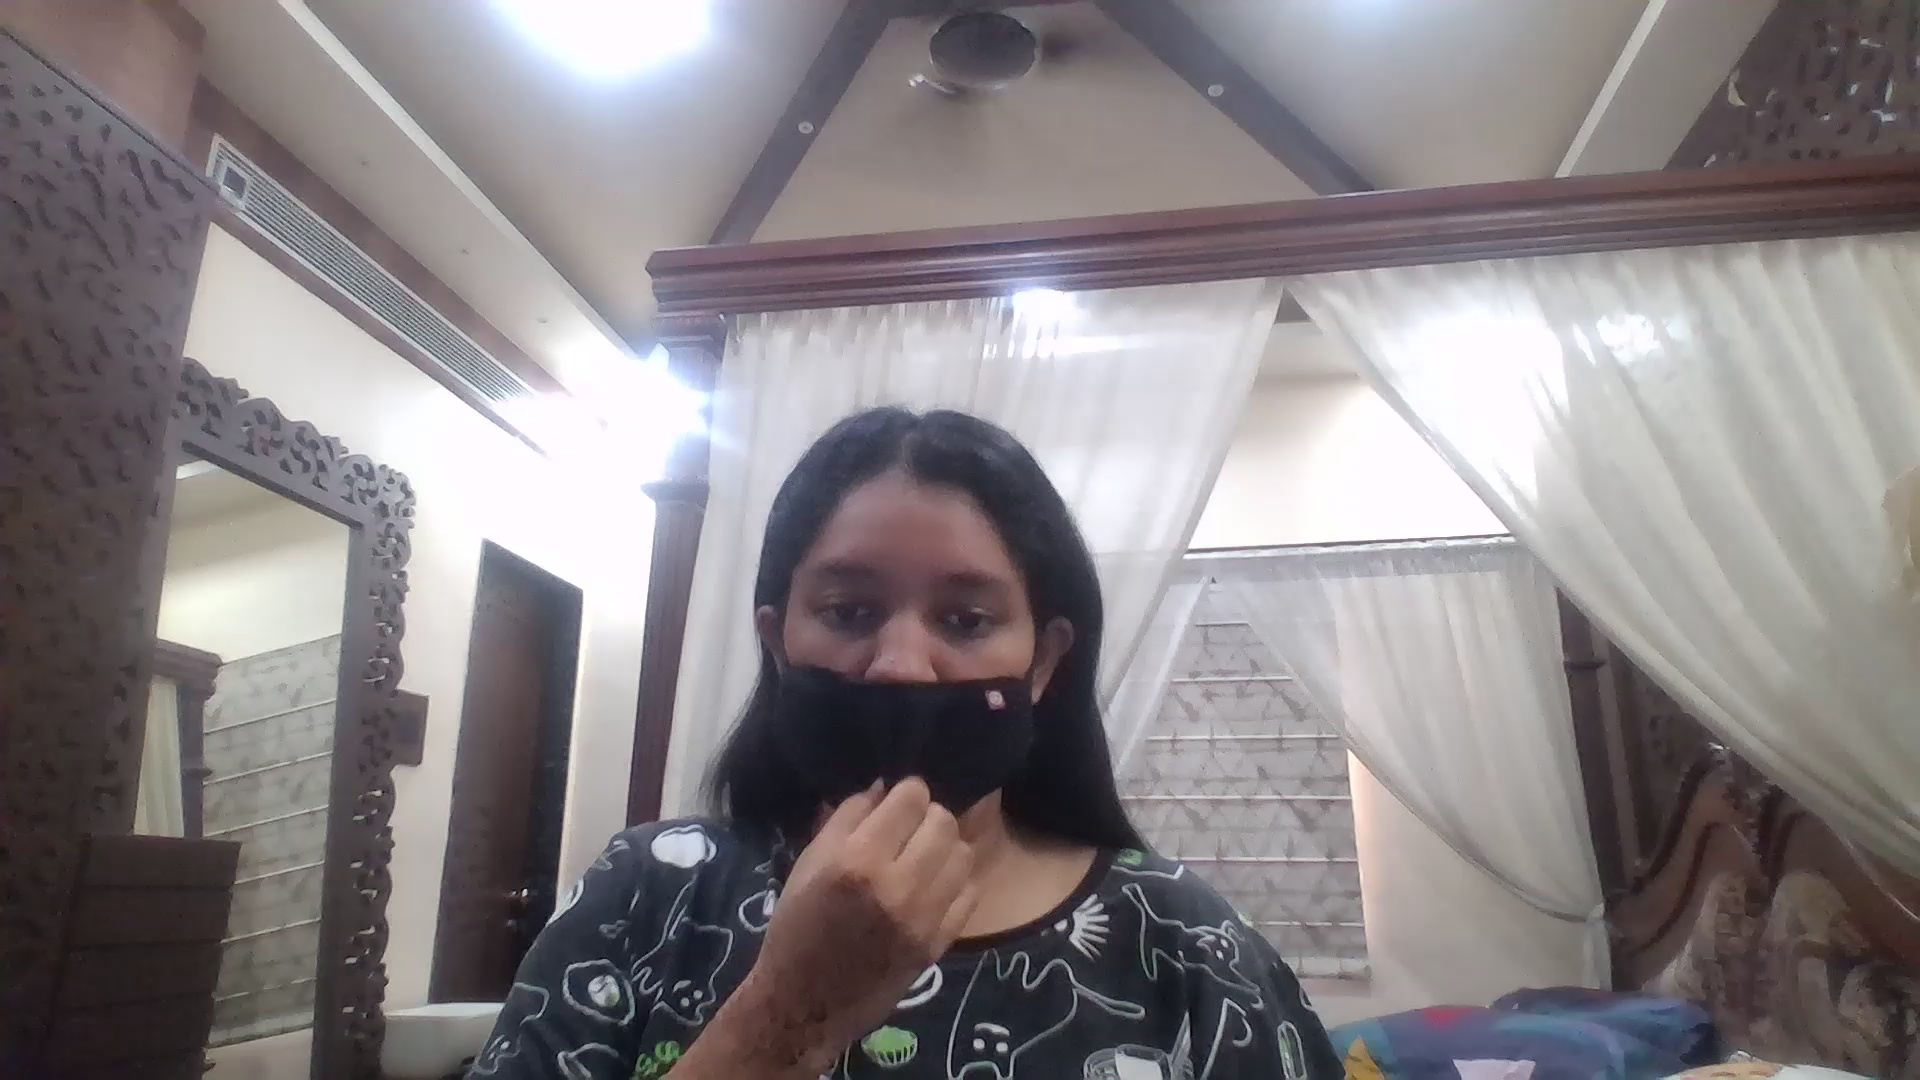Mask: (762, 645, 1048, 833)
